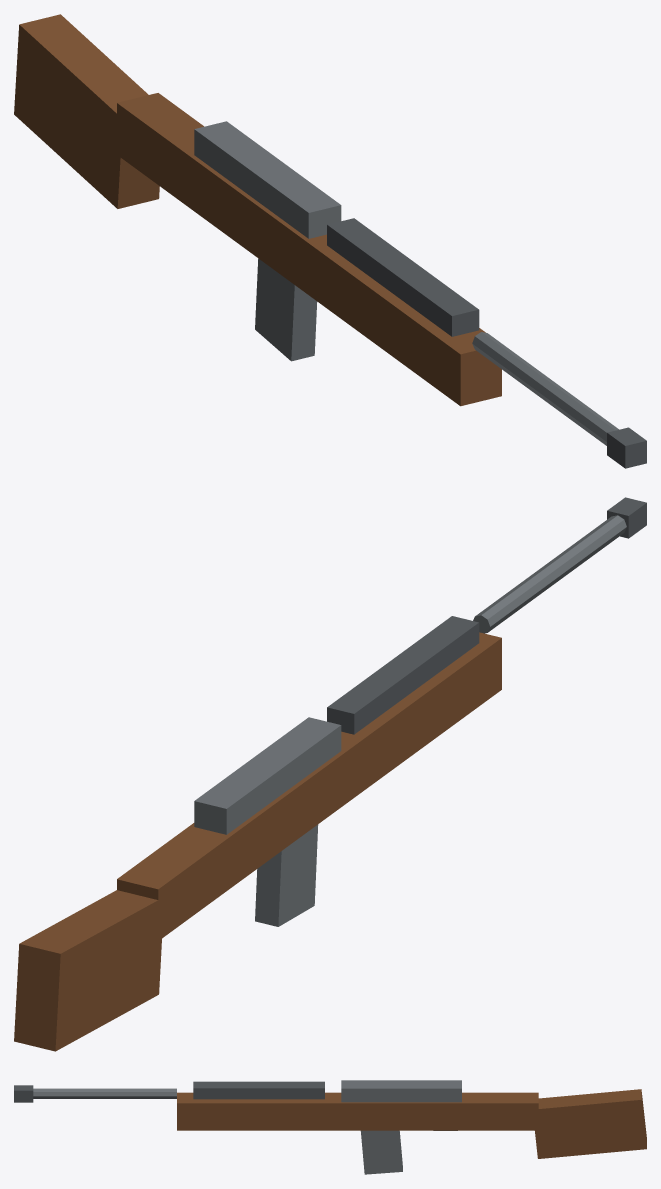
File: gun_dmr_308.glb
3 views of the same model, one above another, from view 1: azimuth 30°, elevation 25°; view 2: azimuth 150°, elevation 25°; view 3: azimuth 270°, elevation 25° (orthographic). The views are drawn at different scales.
Visible parts, largest first — view 1: gun_dmr_308; view 2: gun_dmr_308; view 3: gun_dmr_308.
Part boxes in pixels (x1,y1,x2,y2): gun_dmr_308: (14, 14, 646, 468); gun_dmr_308: (14, 497, 646, 1051); gun_dmr_308: (14, 1080, 646, 1174).
Bounding box in the file's own units: 0.0598 × 0.2282 × 1.5.
